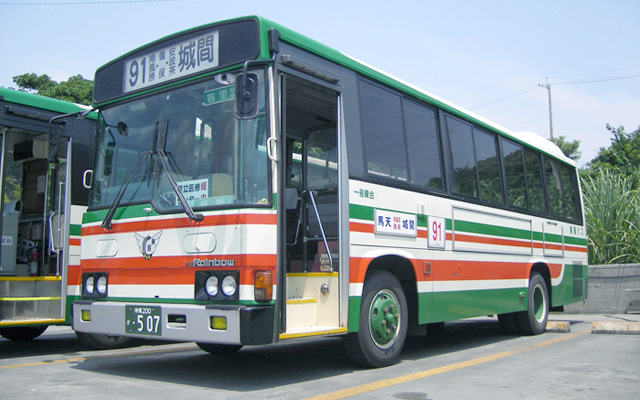destination: (122, 30, 218, 92)
